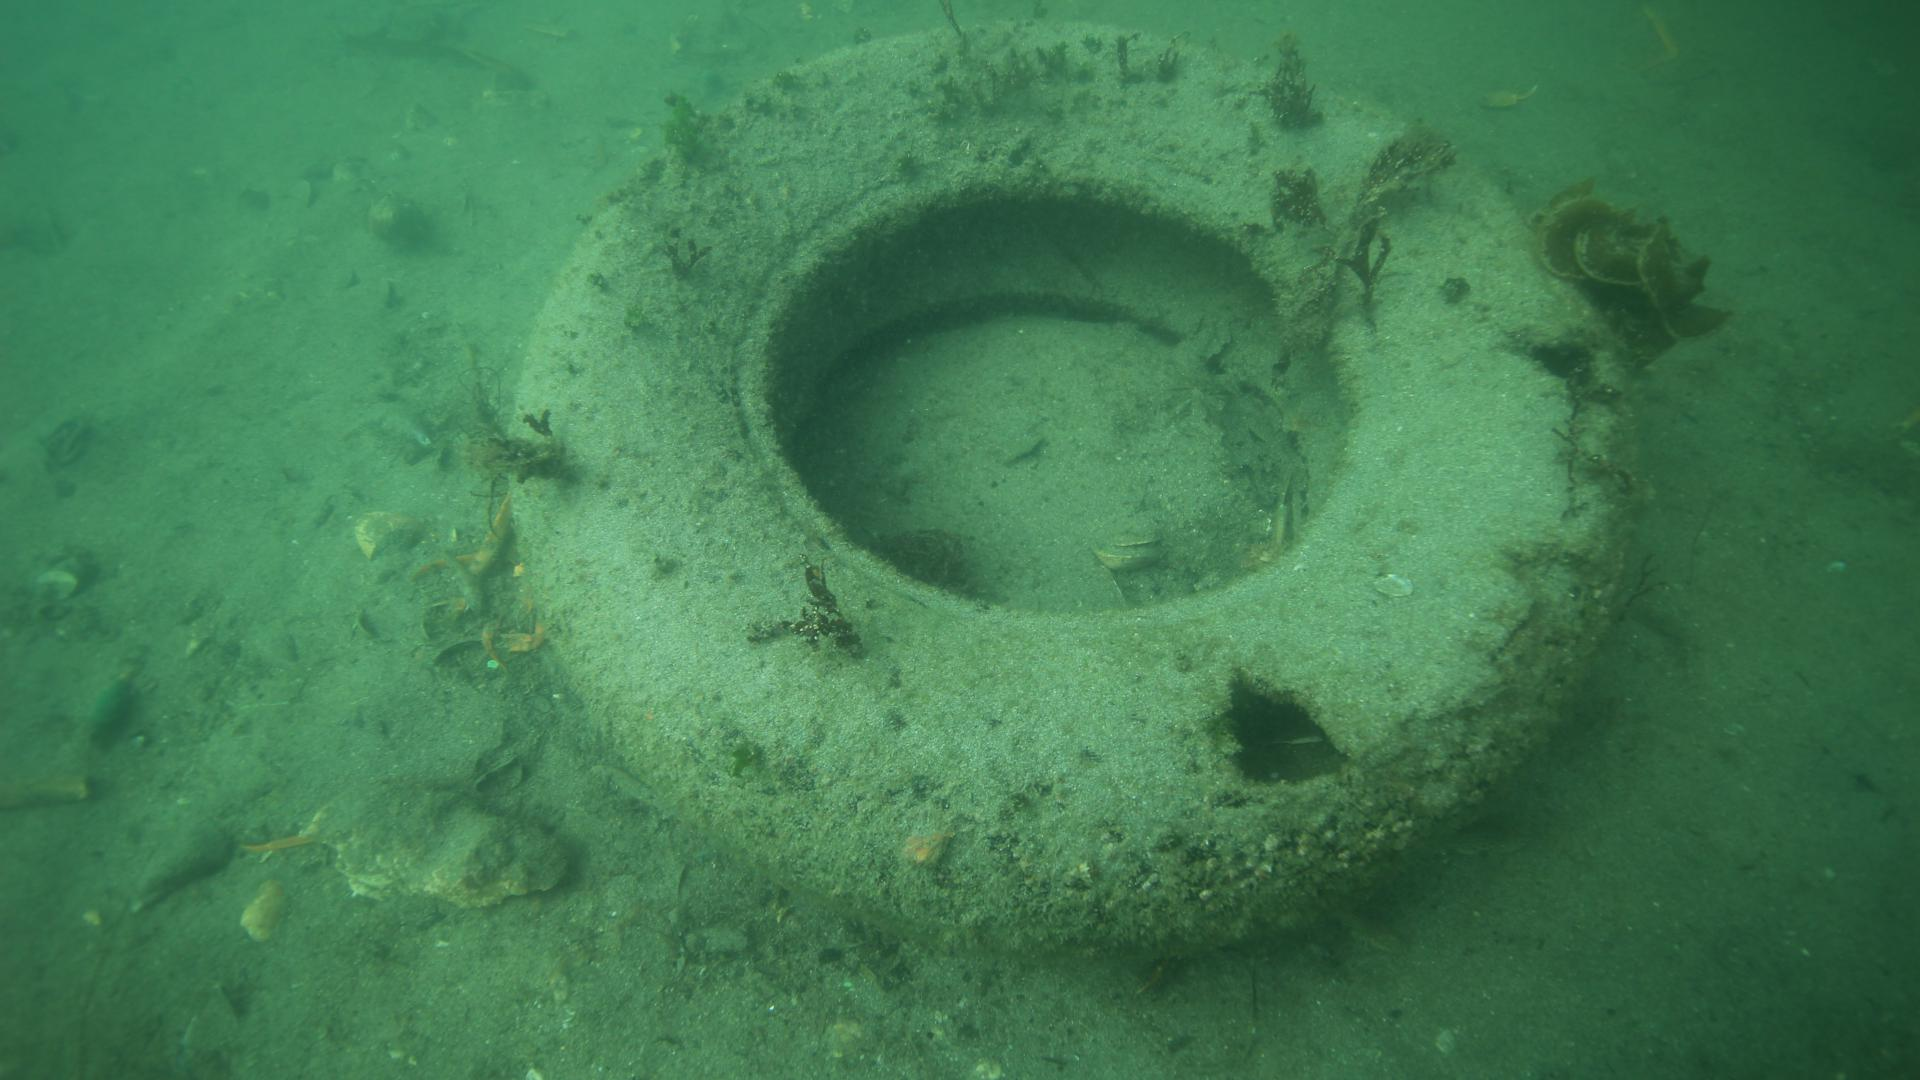tire: (498, 16, 1644, 959)
